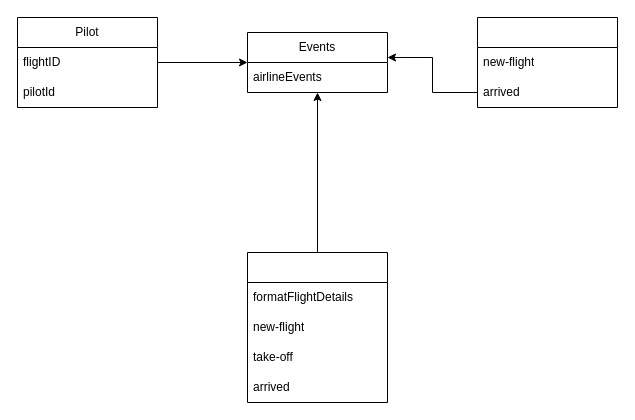
Some shapes in this 635 by 420 pixel diagram are drawn without their labels. Each missing label, with the box of its shape:
Manager: (476, 16, 618, 108)
System: (246, 252, 388, 402)
